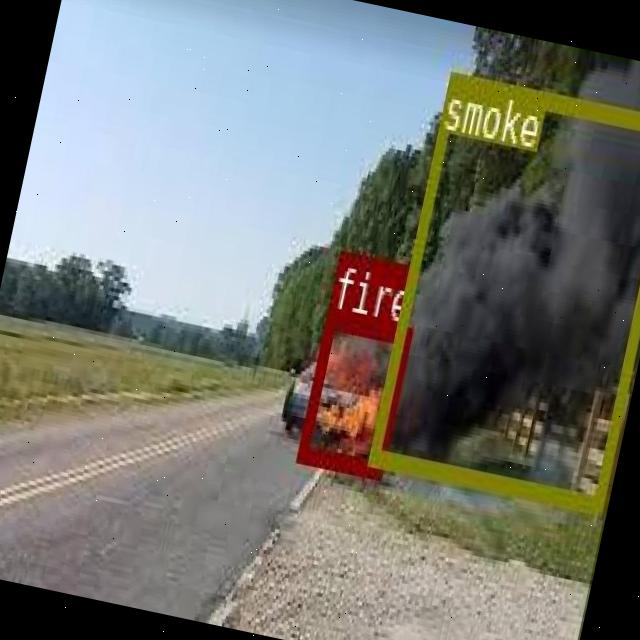fire: (294, 306, 411, 476)
smoke: (366, 70, 640, 512)
